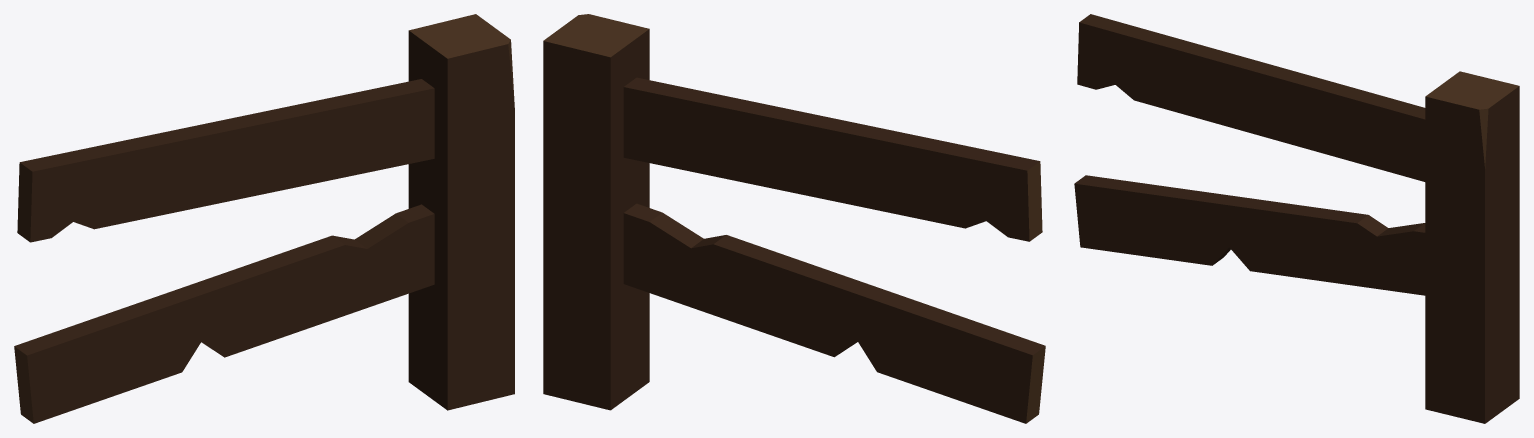
Rendered from Cave_Lair_Wooden_Timber_Fence_Broken_Small_02.fbx.
The picture shows the model from 3 angles, left to right: view 1: azimuth 30°, elevation 25°; view 2: azimuth 150°, elevation 25°; view 3: azimuth 330°, elevation 25°; orthographic projection. The views are drawn at different scales.
Parts seen in each view (by area): view 1: Cave_Lair_Wooden_Timber_Fence_Broken_Small_02; view 2: Cave_Lair_Wooden_Timber_Fence_Broken_Small_02; view 3: Cave_Lair_Wooden_Timber_Fence_Broken_Small_02.
Boxes of the visible parts, bbox=[...] form: Cave_Lair_Wooden_Timber_Fence_Broken_Small_02: bbox=[14, 14, 514, 423]; Cave_Lair_Wooden_Timber_Fence_Broken_Small_02: bbox=[543, 14, 1045, 423]; Cave_Lair_Wooden_Timber_Fence_Broken_Small_02: bbox=[1074, 14, 1519, 423].
Bounding box in the file's own units: 1.59 × 1.12 × 0.225.
